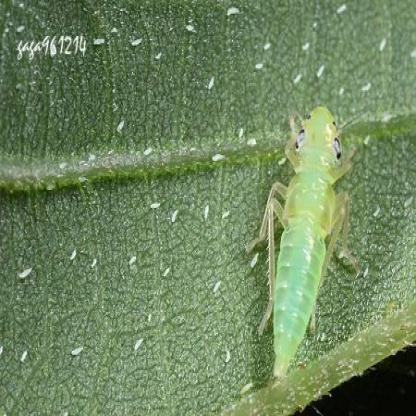green-leafhopper: (244, 104, 360, 380)
